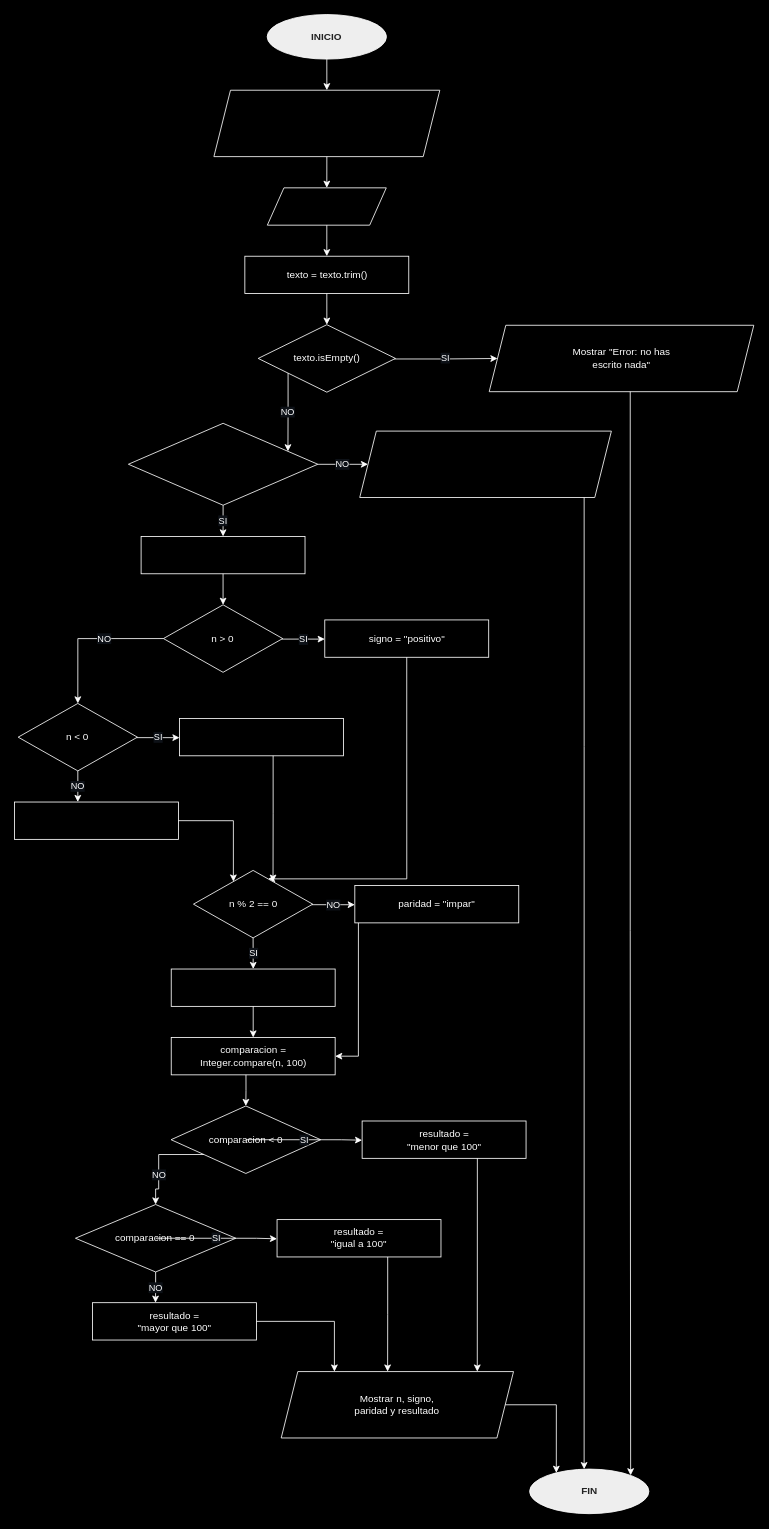
Some shapes in this 769 by 1529 pixel diagram are drawn without their labels. The shapes that lost their labels are listed below. From the top down, each one's centre as x and y in pixels, then its label:
the point at 326,123: Mostrar "Introduce un número"
the point at 326,206: Leer texto
the point at 223,463: ¿Se puede convertir con Integer.parseInt?
the point at 485,464: Mostrar "Error: no es un número entero"
the point at 222,555: n = Integer.parseInt(texto)
the point at 261,737: signo = "negativo"
the point at 96,820: signo = "cero"
the point at 252,987: paridad = "par"
